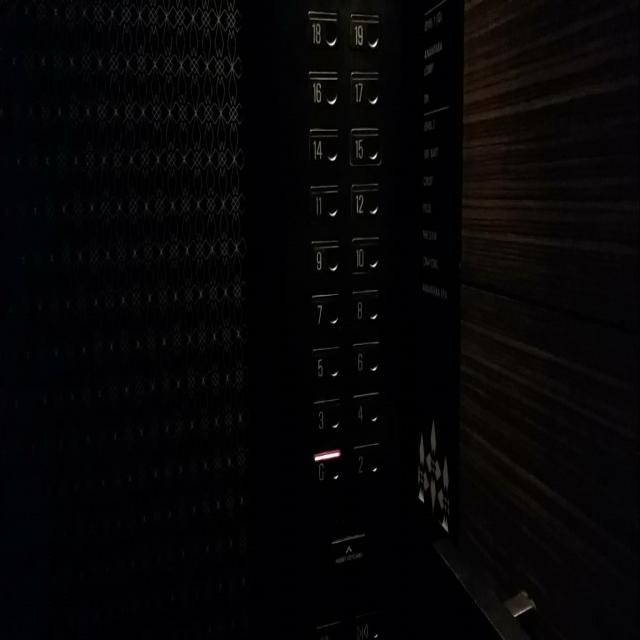10: (349, 235, 381, 277)
11: (309, 185, 342, 227)
12: (349, 182, 382, 225)
14: (307, 125, 340, 167)
15: (349, 126, 382, 167)
16: (307, 68, 340, 112)
17: (349, 68, 380, 114)
18: (306, 8, 338, 54)
19: (349, 12, 381, 56)
2: (351, 440, 384, 483)
3: (311, 395, 344, 442)
4: (352, 390, 383, 433)
5: (309, 344, 343, 388)
6: (350, 338, 383, 385)
7: (308, 292, 342, 335)
8: (350, 286, 382, 330)
9: (308, 241, 339, 280)
G: (313, 448, 342, 488)
